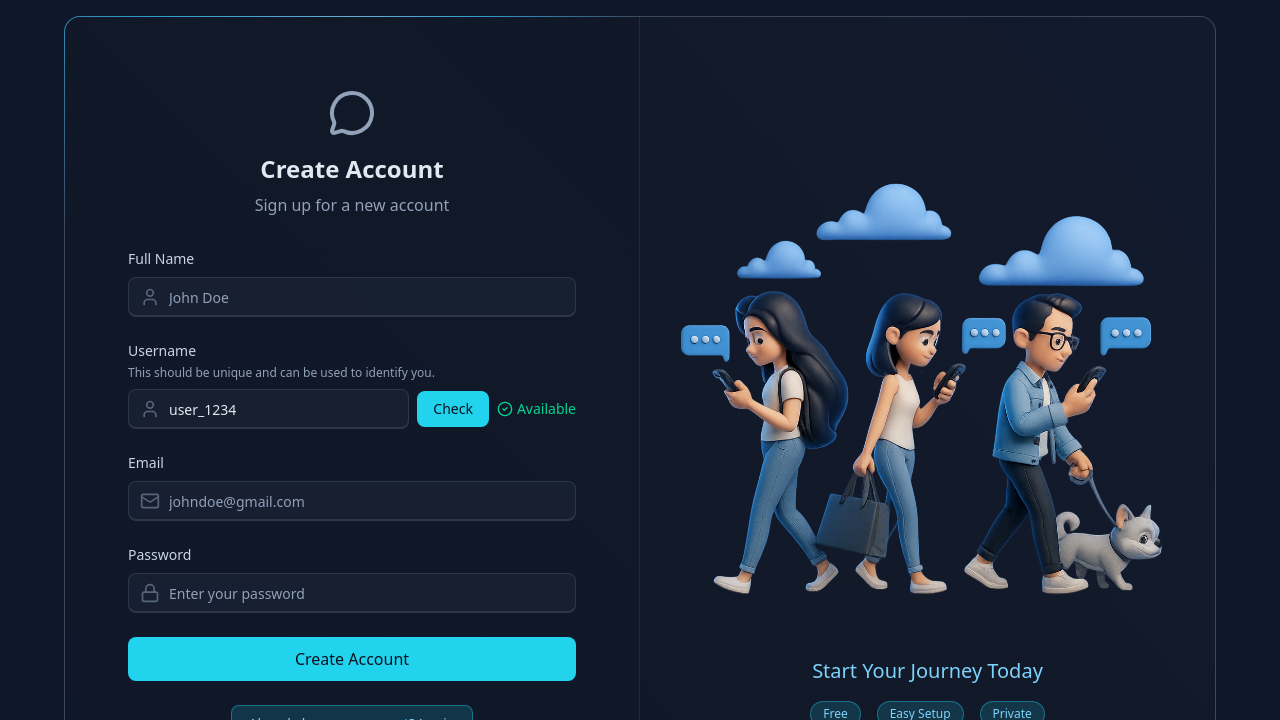
Test: SignUpPage username check › shows taken username state and suggestions after manual check
Check: the text "Available" is shown, box [517, 399, 576, 419]
Clear the field with placeholder "user_1234" at [269, 409], box [128, 389, 409, 429]
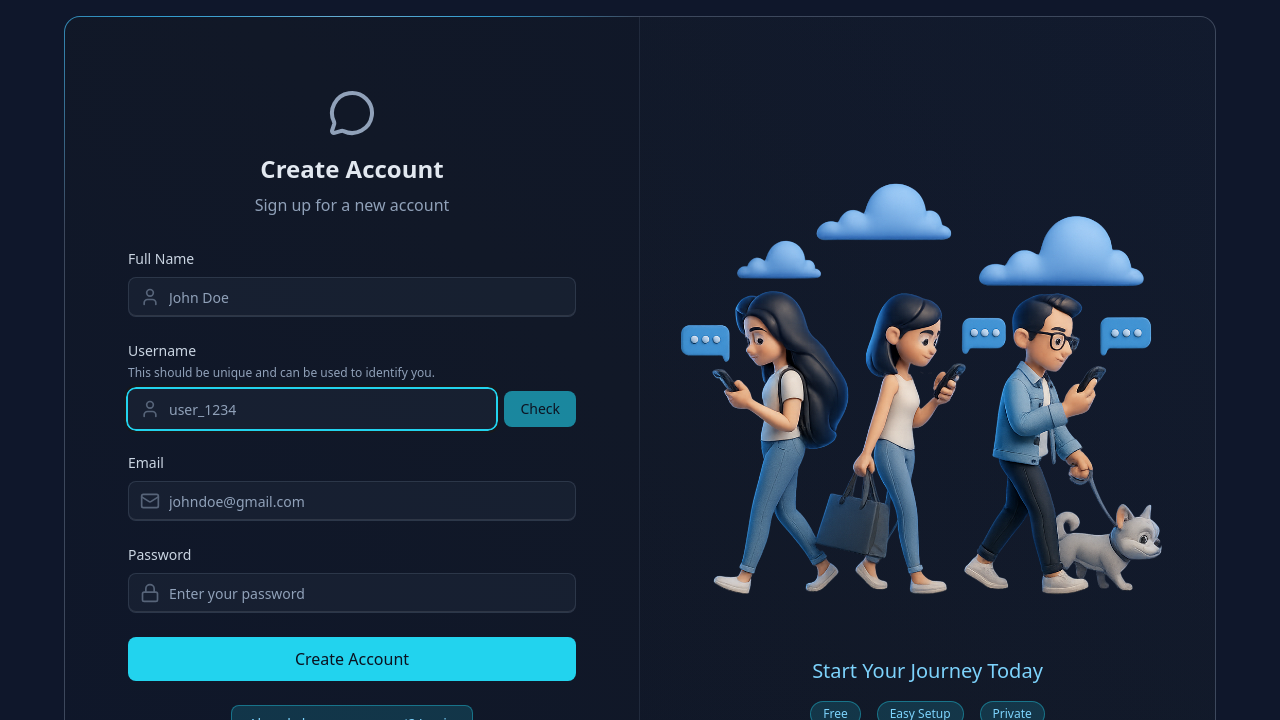
Type "user_0000" into the field with placeholder "user_1234" at [312, 409], box [128, 389, 496, 429]
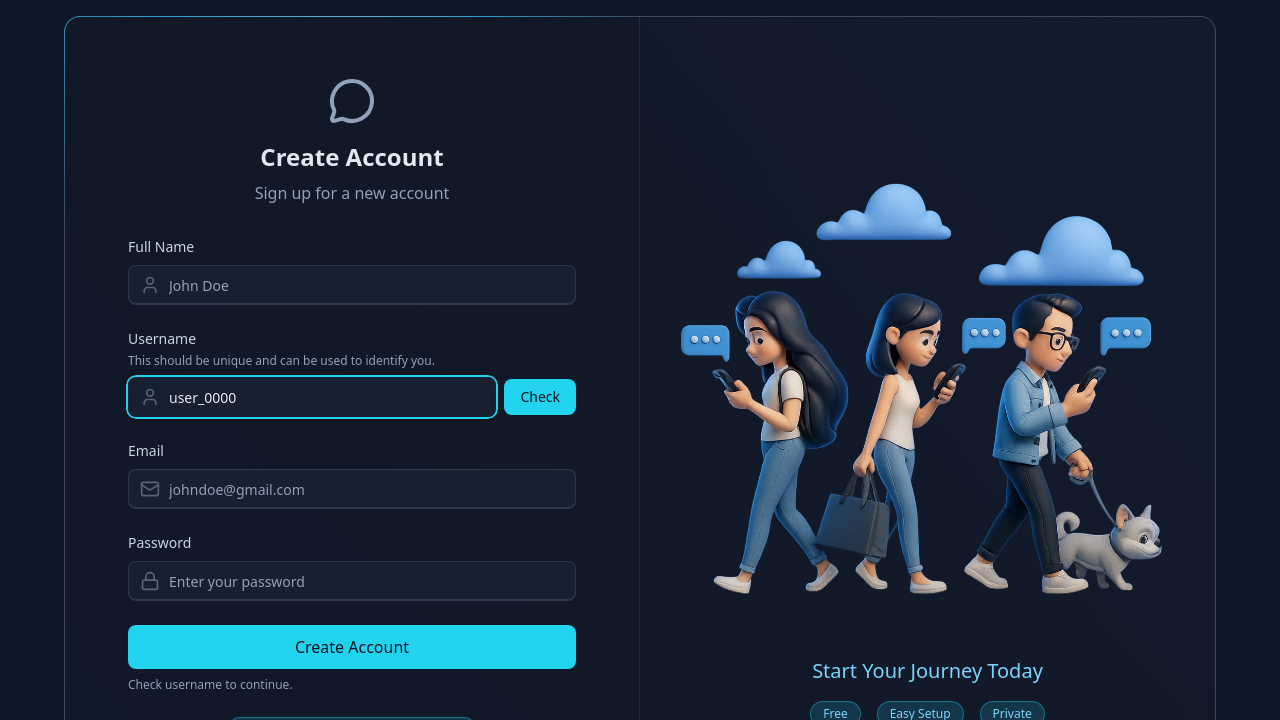
Click the button "Check" at [540, 397], box [504, 379, 576, 415]
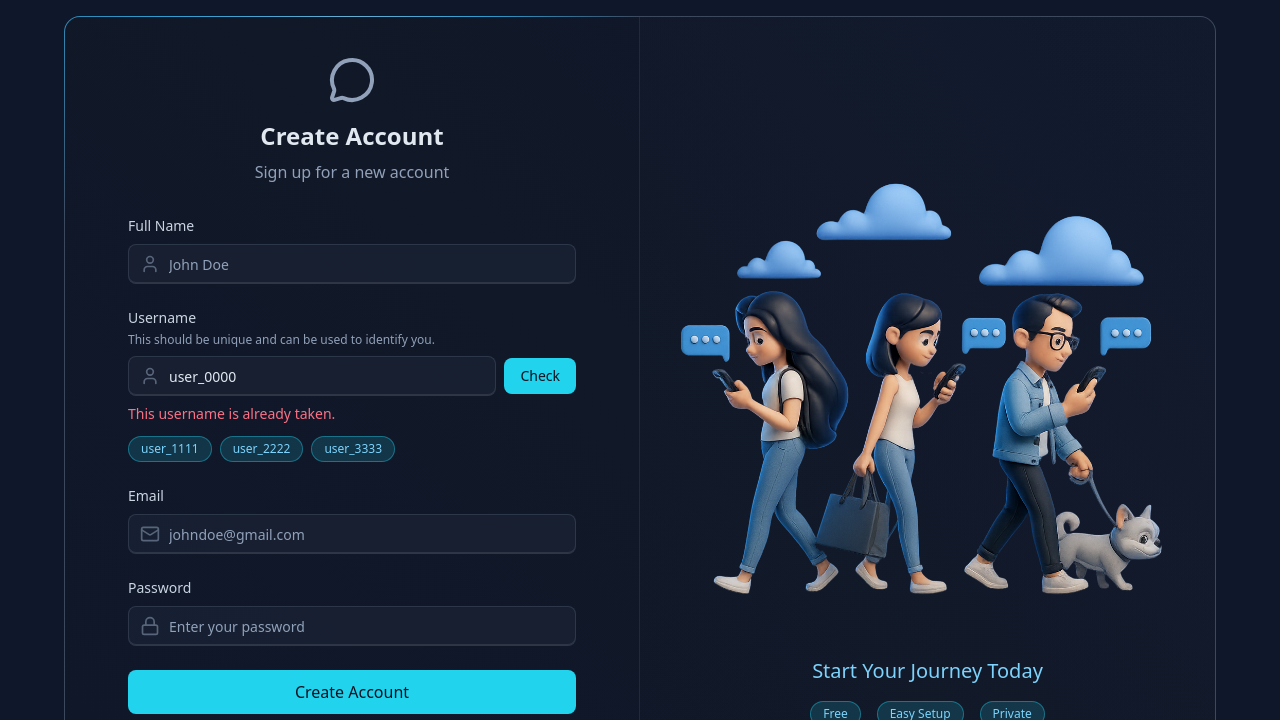
Check: the text "Available" is not shown
Check: the text "This username is already taken." is shown, box [128, 404, 335, 423]
Check: the button "user_1111" is shown, box [128, 436, 212, 462]
